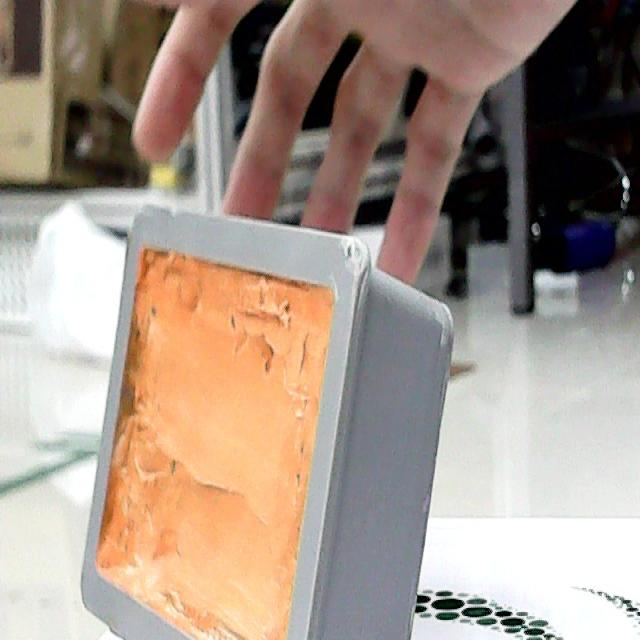block: (78, 196, 457, 640)
